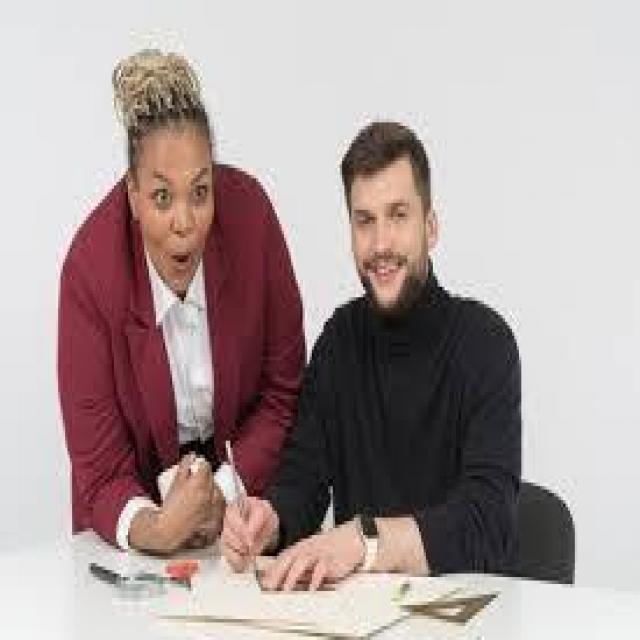person: (261, 70, 542, 633), (37, 21, 307, 595)
